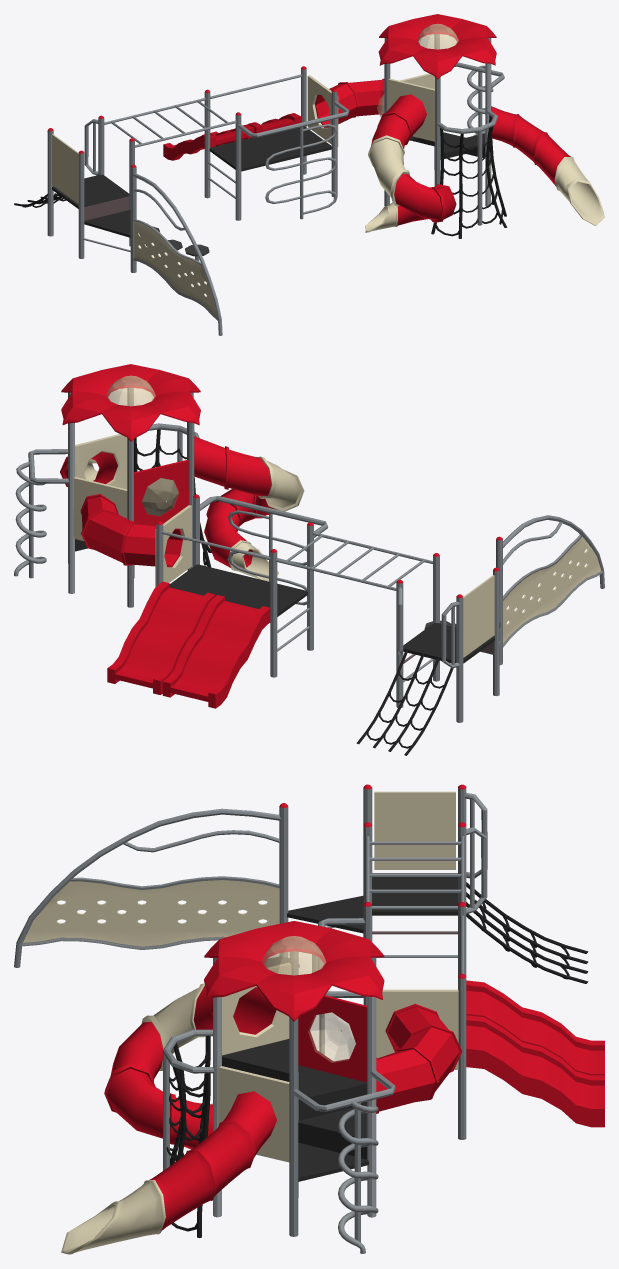
Rendered from playground.fbx.
3 views of the same model, one above another, from view 1: azimuth 30°, elevation 25°; view 2: azimuth 150°, elevation 25°; view 3: azimuth 270°, elevation 25° (orthographic). The views are drawn at different scales.
Parts seen in each view (by area): view 1: pCylinder28; view 2: pCylinder28; view 3: pCylinder28.
Part boxes in pixels (<box>): pCylinder28: <box>14,14,604,335</box>; pCylinder28: <box>14,364,604,755</box>; pCylinder28: <box>14,784,604,1254</box>.
Size of the model in its own units: 40.29 by 15.76 by 31.17.
